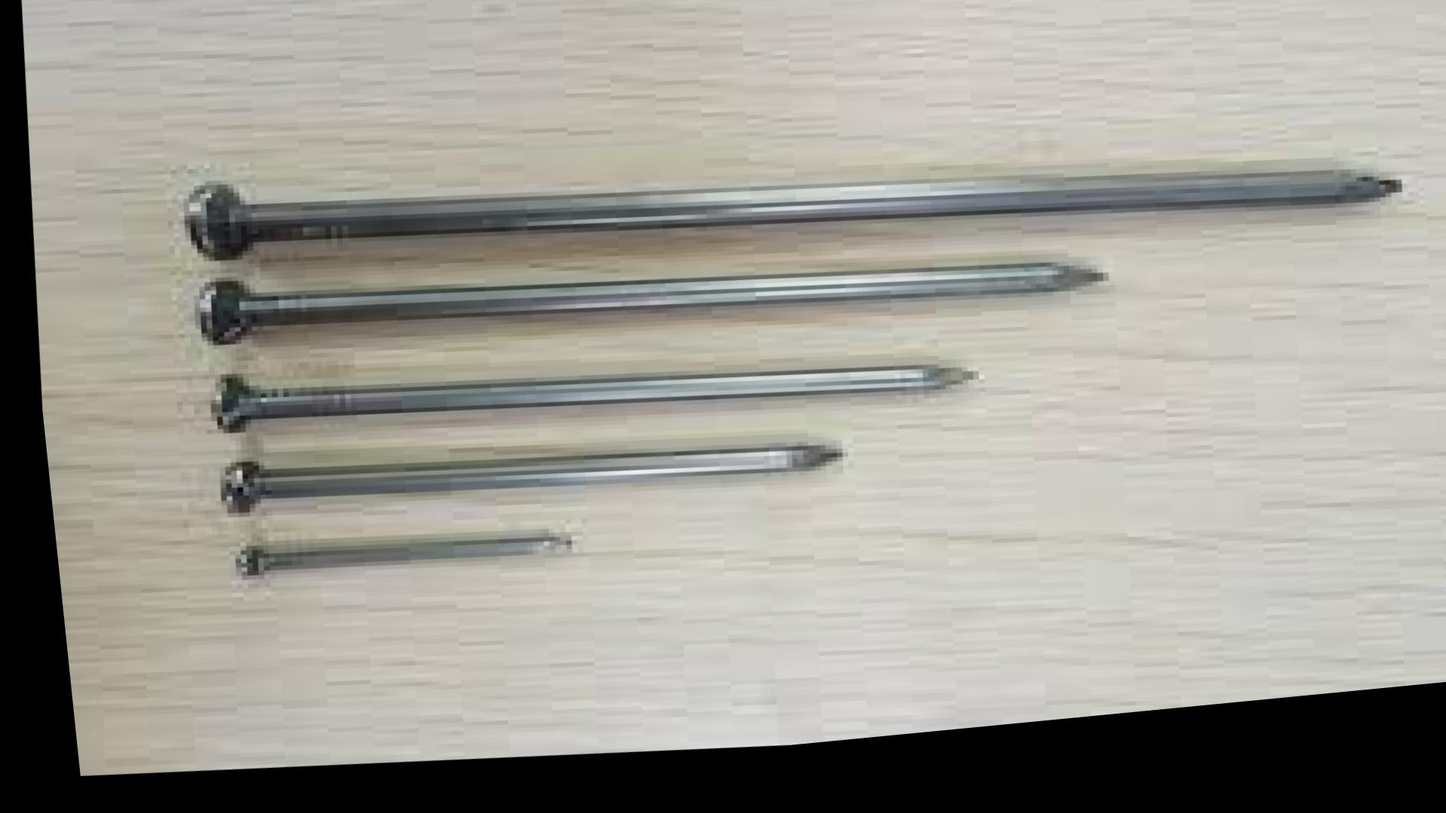nail: (147, 96, 1411, 334), (147, 207, 1116, 413), (185, 321, 981, 483), (194, 409, 857, 554), (192, 500, 576, 632)
